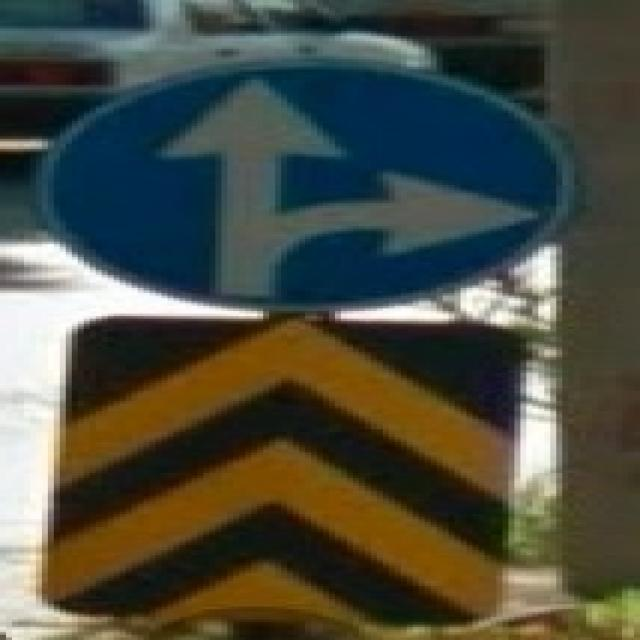Straight or Right: (55, 62, 569, 308)
